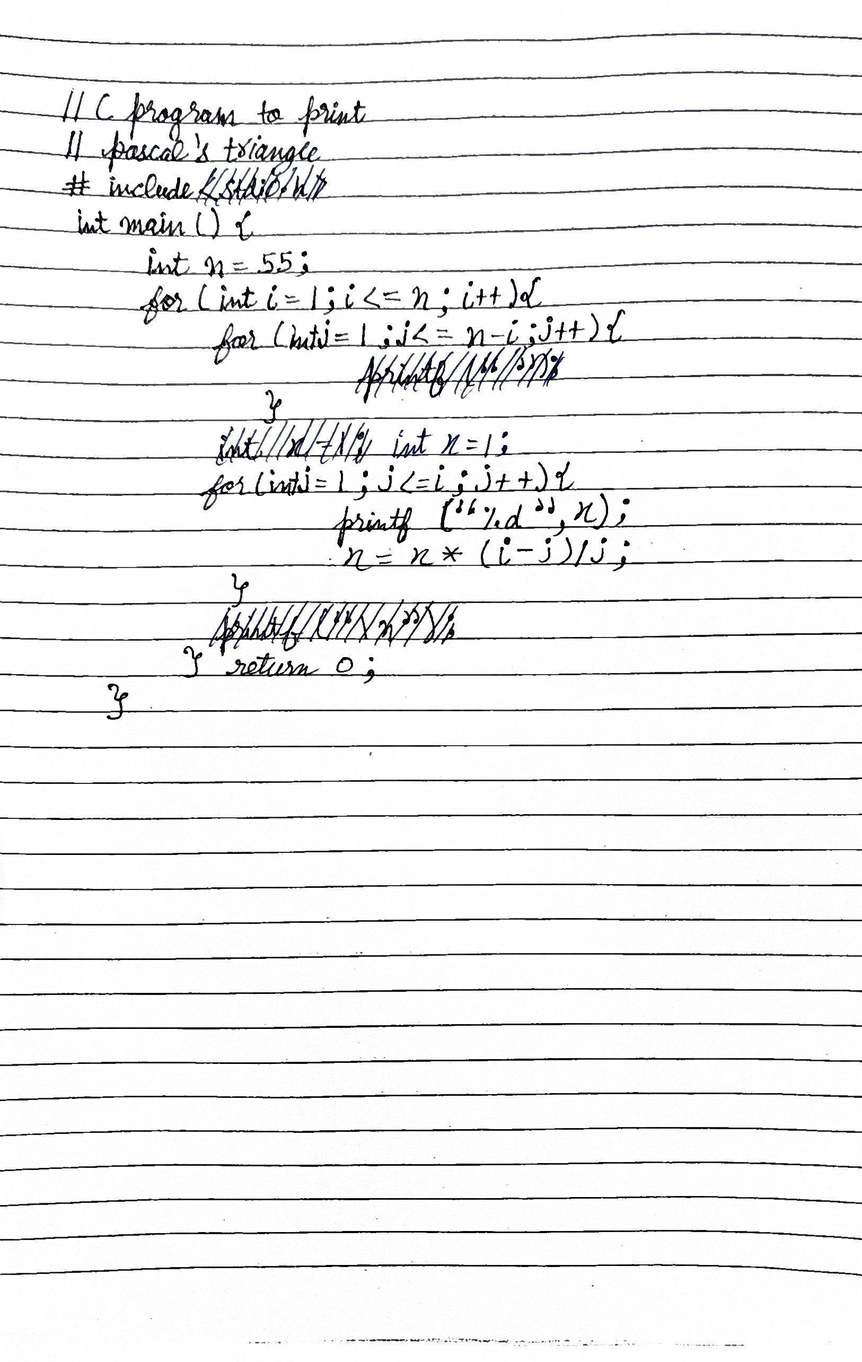cuttings: (208, 599, 459, 655), (355, 349, 568, 402), (214, 418, 374, 465), (198, 167, 328, 205)
